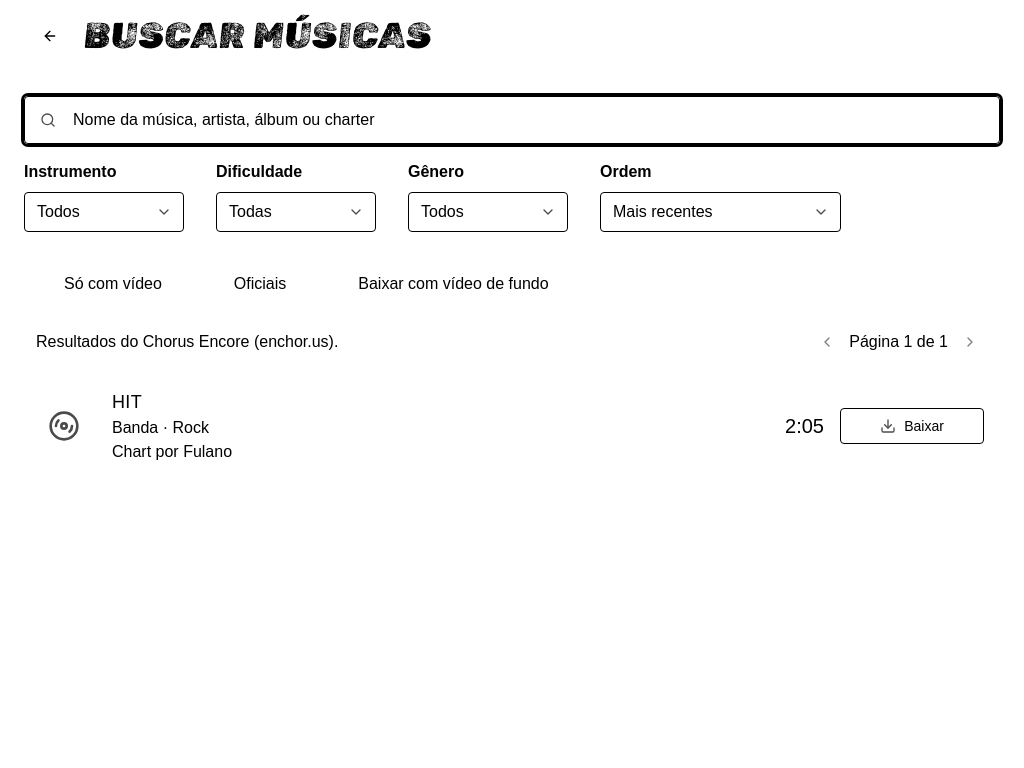
TelaDeBuscaDeMusicas › download › arquivo grande › pergunta num modal mostrando o tamanho, e Baixar confirma
Click the button with aria-label "Baixar Hit" at (912, 426), box [840,408,984,444]
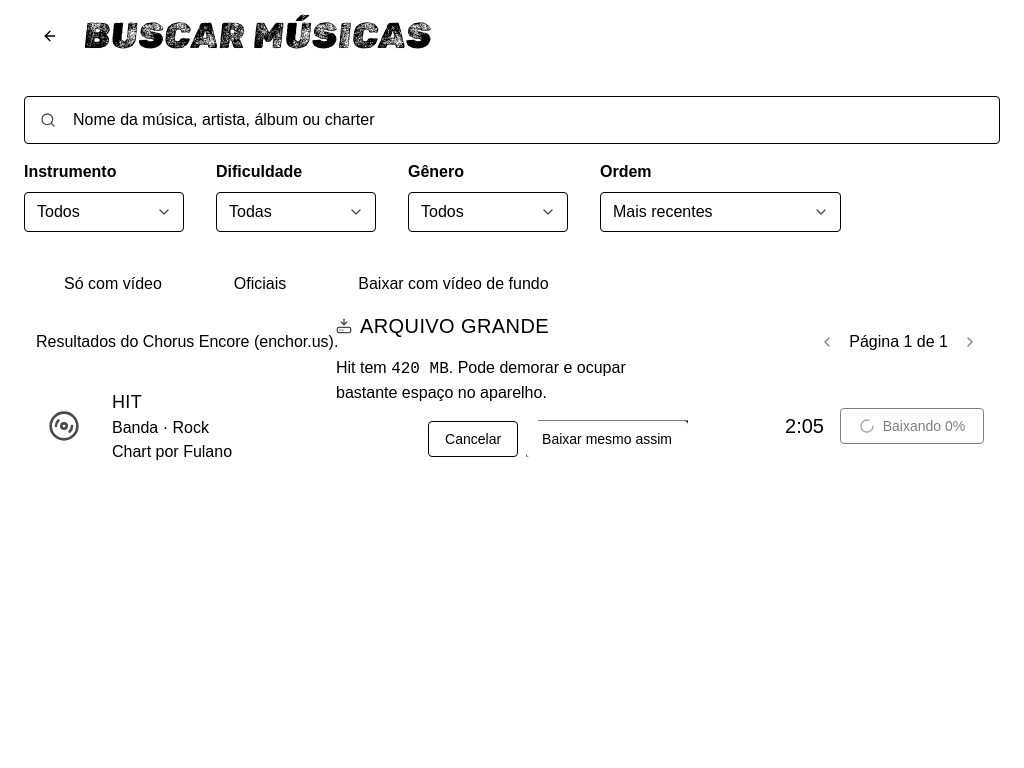
Check: the dialog "Arquivo grande" shows "420 MB", box [391,360,449,378]
Click the button "Baixar mesmo assim" at (607, 438), box [526,420,688,456]
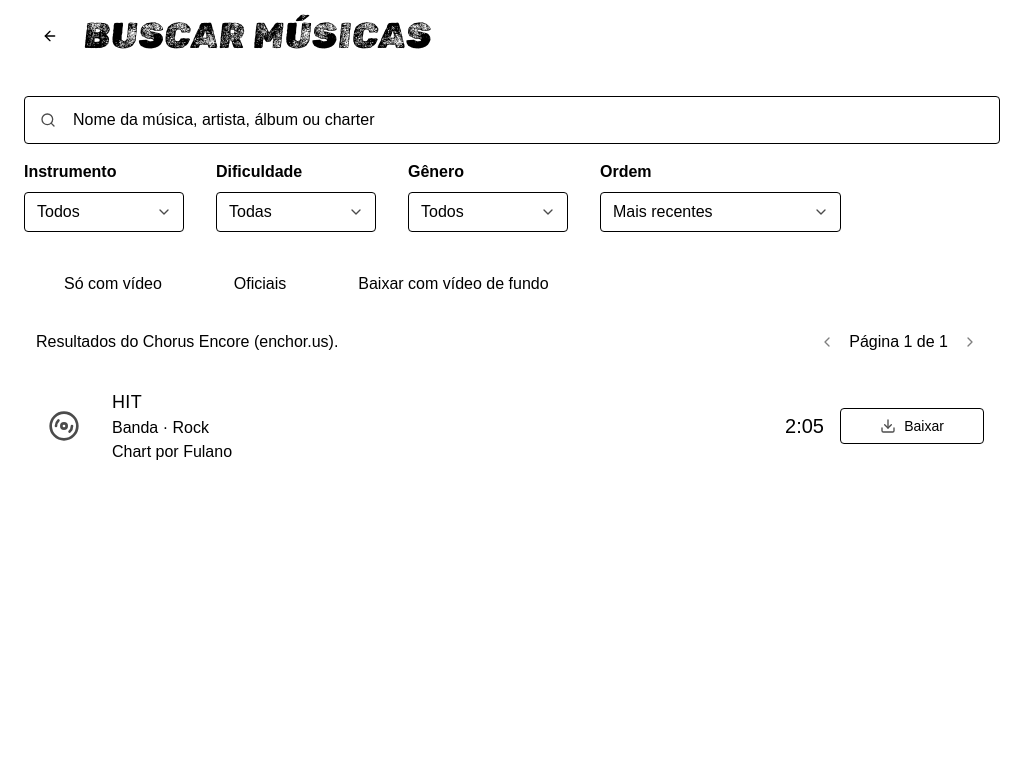
Check: the dialog is gone
